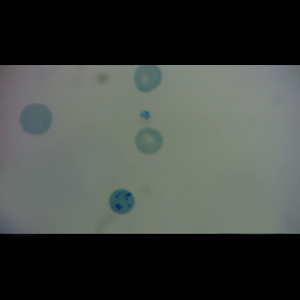aggregate reticulocyte: (108, 188, 137, 216)
erythrocyte: (132, 65, 164, 93), (134, 127, 164, 155)
punctate reticulocyte: (18, 102, 54, 136)
